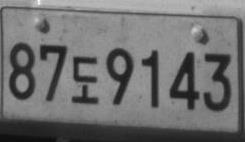1: (138, 49, 165, 107)
3: (203, 52, 232, 112)
4: (170, 51, 200, 111)
7: (39, 44, 68, 101)
8: (8, 42, 37, 101)
9: (105, 47, 134, 105)
도: (71, 56, 99, 104)
